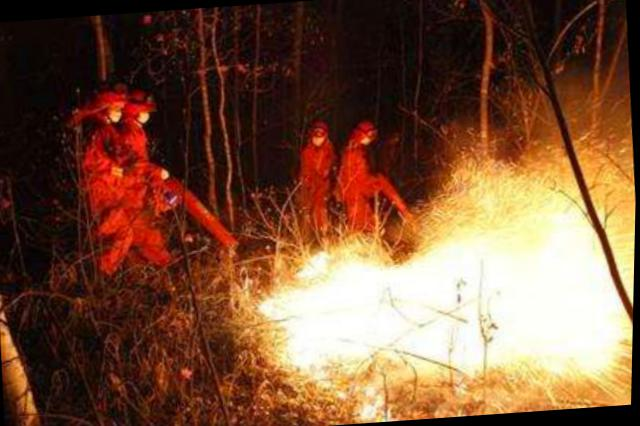fire: (255, 162, 636, 417)
